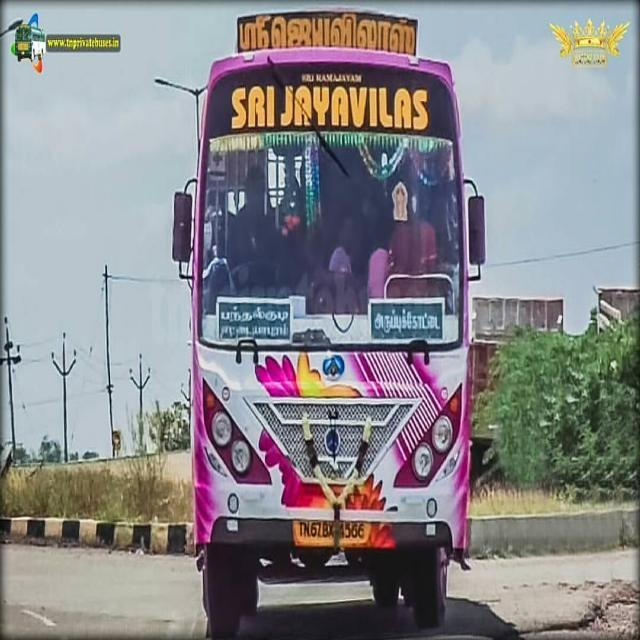Bus: (172, 11, 482, 640)
